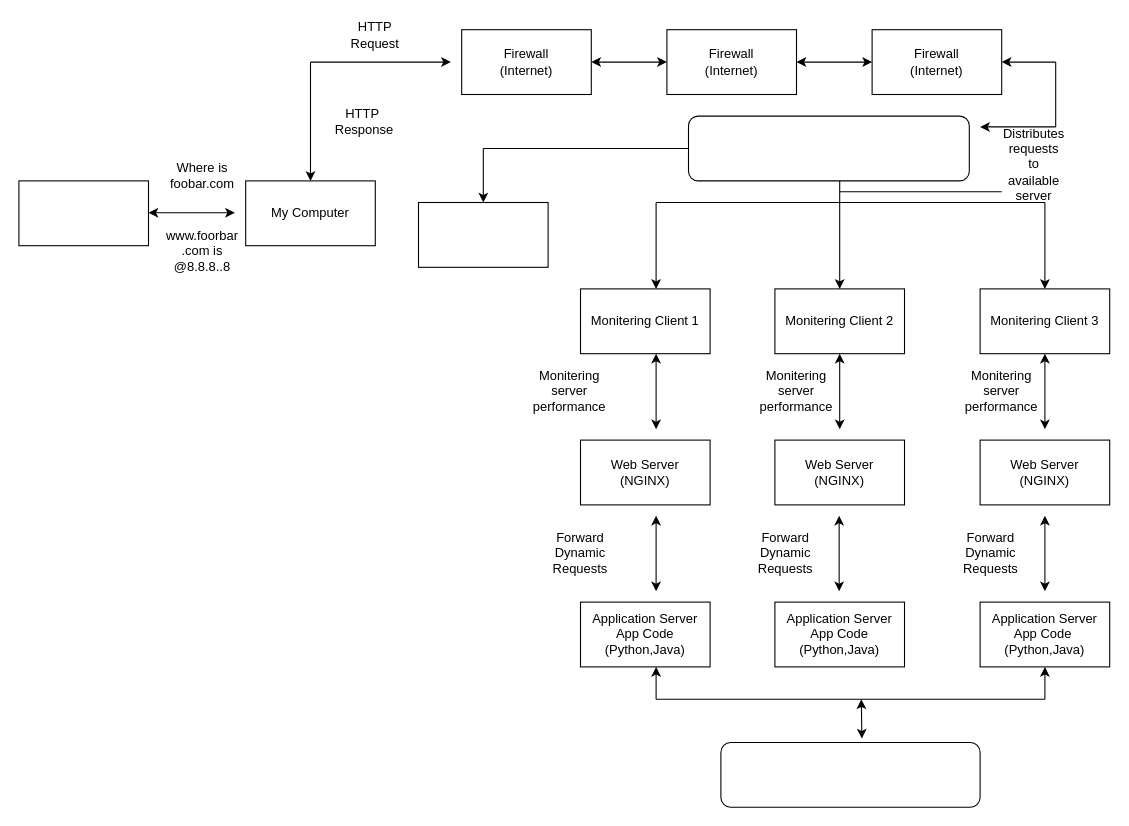
Some shapes in this 1129 by 826 pixel diagram are drawn without their labels. Each missing label, with the box of its shape:
Database Cluster (Primary): (417, 201, 548, 267)
DATABASE(MySQL): (720, 741, 980, 807)
DNS Server (www.foobar.com): (18, 180, 148, 246)
Load Balancer(HAproxy): (687, 115, 969, 181)
